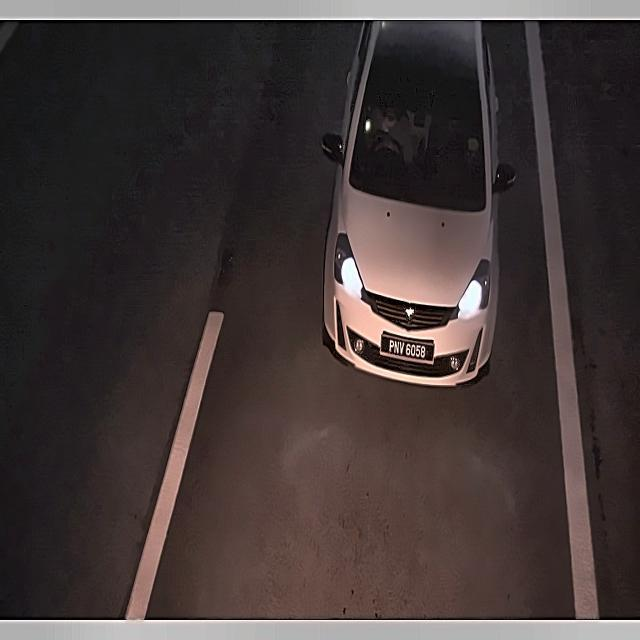car: (379, 331, 437, 363)
